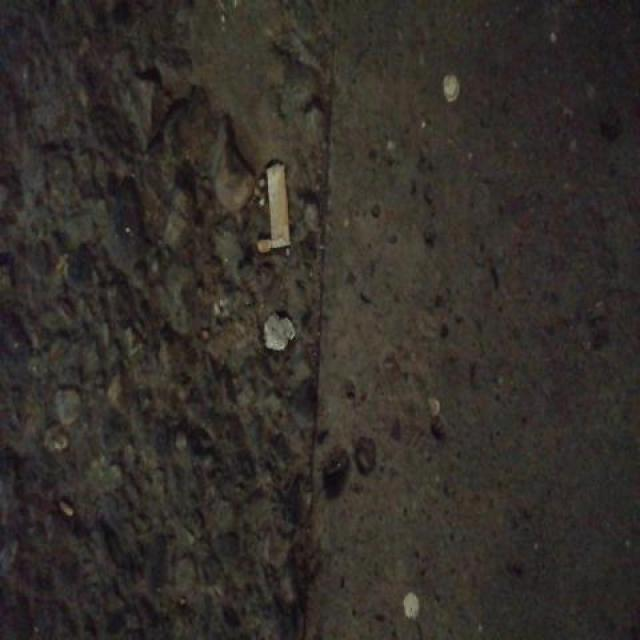non-organic waste: (259, 156, 297, 255)
